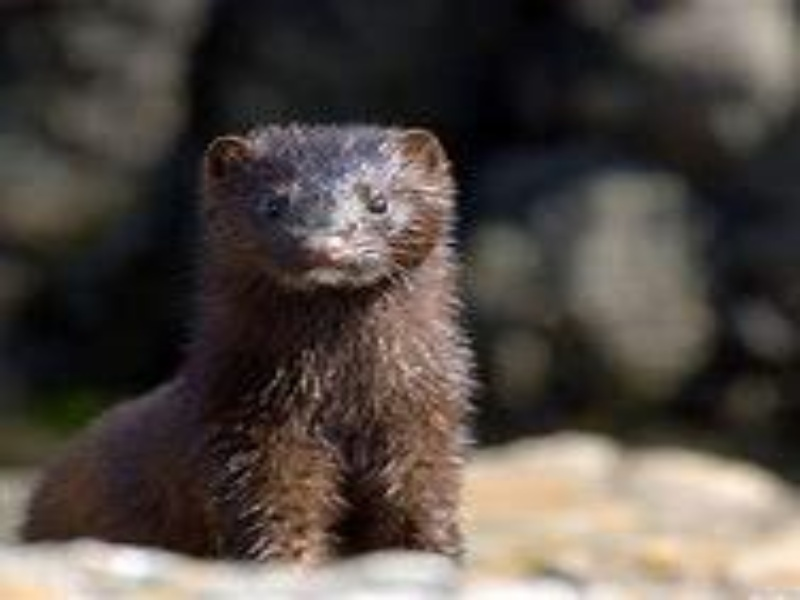minkish: (17, 111, 478, 578)
